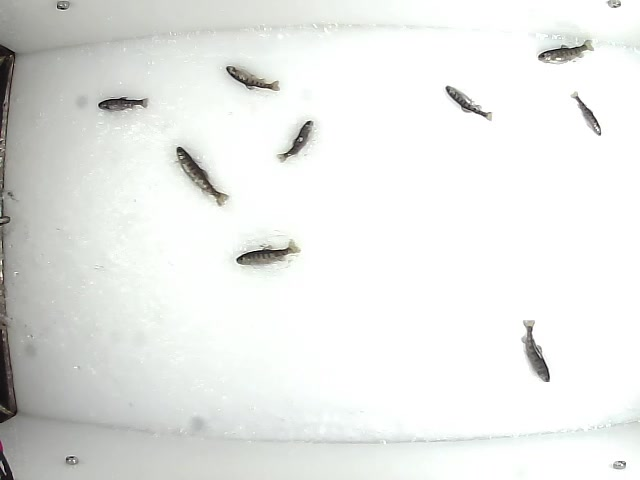fish: (169, 144, 230, 209), (519, 317, 552, 385), (233, 238, 304, 269), (444, 81, 494, 123), (274, 115, 316, 165), (224, 64, 282, 94), (537, 37, 598, 65), (568, 90, 602, 136), (94, 94, 153, 112)
